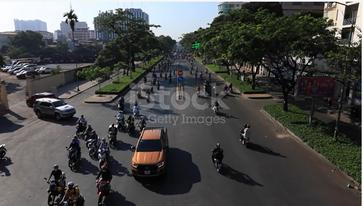car: (127, 119, 178, 183), (32, 96, 81, 127), (20, 90, 58, 111)
motorcycle: (43, 173, 65, 206), (207, 141, 229, 173), (94, 170, 113, 206), (66, 139, 83, 178), (236, 123, 256, 154), (84, 134, 98, 163), (95, 140, 110, 166), (72, 117, 87, 141), (106, 127, 121, 148), (142, 90, 155, 106), (114, 97, 125, 115), (116, 114, 126, 132), (131, 102, 141, 119), (211, 102, 222, 117)
